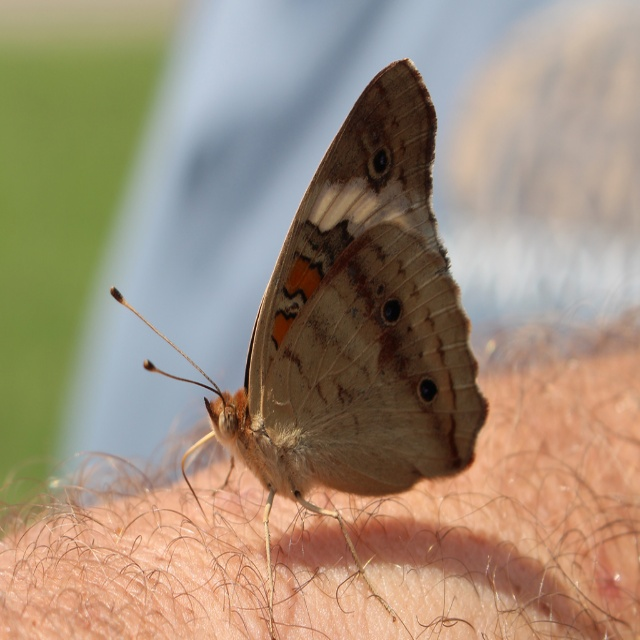Butterfly: (106, 37, 469, 600)
